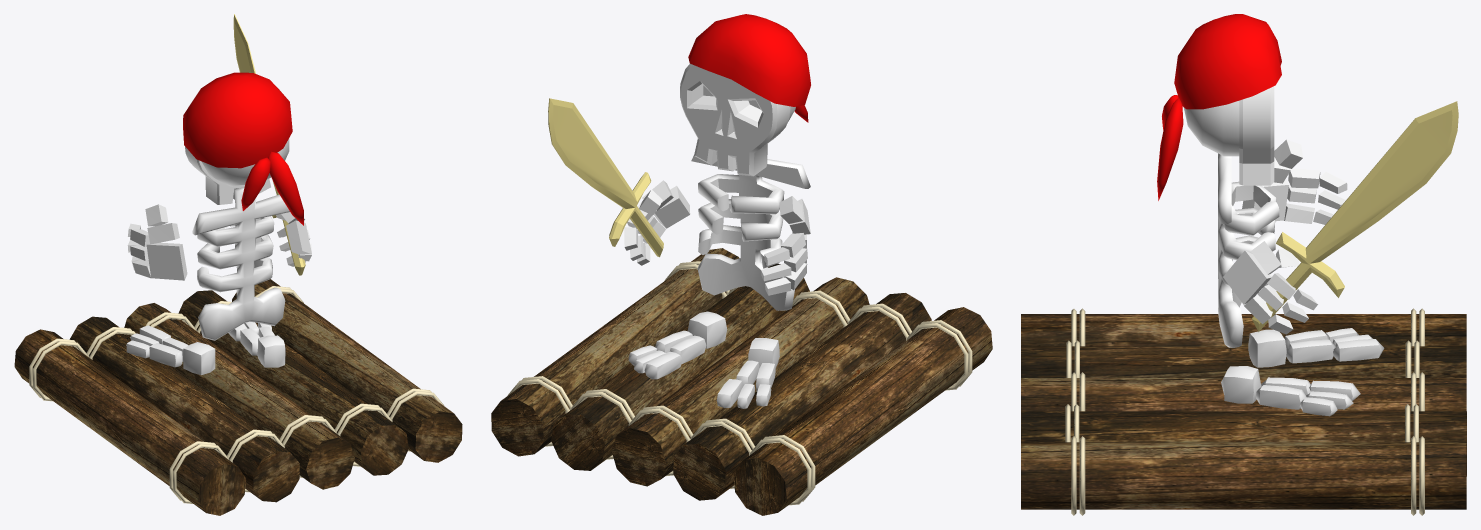
The model's file is skeleton.obj.
The picture shows the model from 3 angles, left to right: view 1: azimuth 30°, elevation 25°; view 2: azimuth 150°, elevation 25°; view 3: azimuth 270°, elevation 25°; orthographic projection. The views are drawn at different scales.
Visible parts, largest first — view 1: Cylinder05, Cylinder04, Cylinder01, Cylinder03, Line02, Cylinder02, Sphere02, Box02, Box14, Box15, Sphere03, Box01 (+4 smaller); view 2: Cylinder05, Cylinder04, Cylinder01, Cylinder03, Cylinder02, Line02, Line01, Sphere02, Line03, Box15, Box02, Box14 (+3 smaller); view 3: Cylinder01, Cylinder02, Cylinder04, Cylinder03, Cylinder05, Line03, Sphere02, Line02, Box01, Box15, Box14, Box02 (+4 smaller).
Boxes of the visible parts, box(x1,y1,x2,y2) form: Cylinder05: box(14, 329, 245, 515); Cylinder04: box(69, 316, 299, 502); Cylinder01: box(232, 279, 462, 462); Cylinder03: box(124, 303, 354, 489); Line02: box(192, 187, 289, 340); Cylinder02: box(178, 290, 408, 475); Sphere02: box(183, 72, 292, 168); Box02: box(127, 204, 187, 280); Box14: box(126, 325, 215, 375); Box15: box(228, 321, 285, 367); Sphere03: box(268, 151, 303, 225); Box01: box(276, 212, 311, 266); Cylinder05: box(733, 307, 992, 515); Cylinder04: box(673, 293, 931, 500); Cylinder01: box(491, 248, 739, 456); Cylinder03: box(611, 277, 869, 486); Cylinder02: box(551, 263, 809, 470); Line02: box(691, 155, 810, 310); Line01: box(680, 63, 790, 176); Sphere02: box(688, 14, 810, 106); Line03: box(548, 98, 663, 257); Box15: box(628, 311, 727, 379); Box02: box(761, 196, 810, 295); Box14: box(716, 338, 779, 408); Cylinder01: box(1021, 442, 1466, 509); Cylinder02: box(1021, 411, 1466, 476); Cylinder04: box(1021, 346, 1466, 377); Cylinder03: box(1021, 378, 1466, 441); Cylinder05: box(1021, 314, 1466, 346); Line03: box(1252, 101, 1458, 331); Sphere02: box(1174, 14, 1281, 109); Line02: box(1218, 153, 1279, 347); Box01: box(1223, 241, 1317, 334); Box15: box(1221, 366, 1360, 416); Box14: box(1248, 328, 1384, 367); Box02: box(1242, 139, 1347, 224).
Size of the model in its own units: 23.15 by 28.76 by 27.21.
